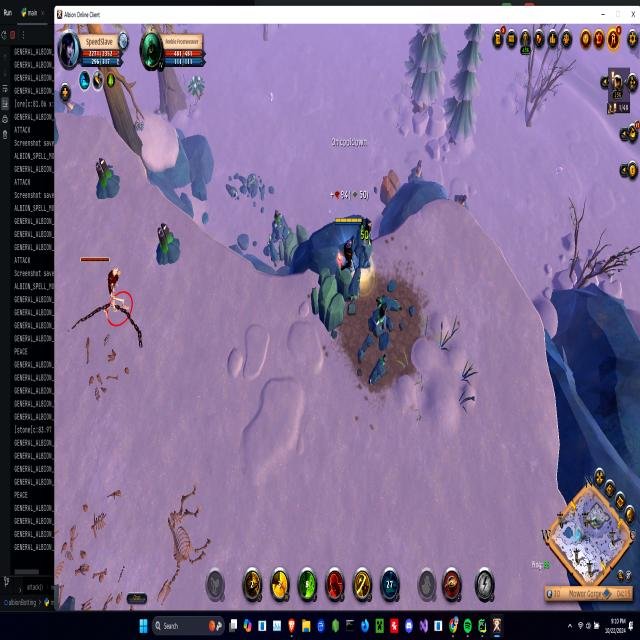hide: (185, 70, 206, 103)
ore: (80, 252, 136, 332), (350, 210, 376, 309), (260, 207, 290, 264)
player: (354, 278, 414, 394), (152, 219, 183, 270), (93, 154, 121, 204), (408, 158, 424, 186), (454, 190, 471, 212)
red: (332, 210, 370, 274)
tree: (307, 258, 356, 340), (276, 220, 312, 271), (375, 165, 404, 204)
